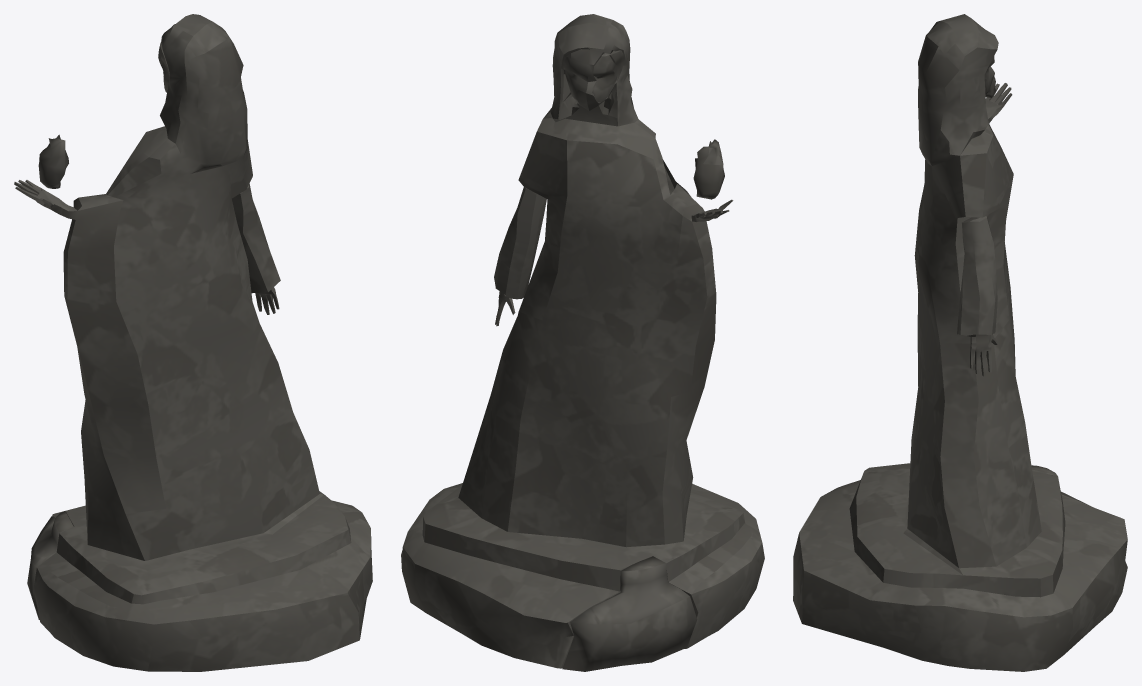
File: new_statue_model.glb
3 views of the same model, side by side, from view 1: azimuth 30°, elevation 25°; view 2: azimuth 150°, elevation 25°; view 3: azimuth 270°, elevation 25° (orthographic). The views are drawn at different scales.
Visible parts, largest first — view 1: statue, armpiece, basepiece, flame; view 2: statue, basepiece, armpiece, flame, headpiece; view 3: statue, armpiece.
Boxes of the visible parts, bbox=[...] form: statue: bbox=[14, 14, 372, 671]; armpiece: bbox=[232, 183, 280, 314]; basepiece: bbox=[27, 511, 73, 619]; flame: bbox=[38, 134, 68, 188]; statue: bbox=[401, 14, 764, 668]; basepiece: bbox=[562, 556, 697, 671]; armpiece: bbox=[494, 187, 546, 326]; flame: bbox=[693, 139, 724, 199]; headpiece: bbox=[592, 50, 625, 102]; statue: bbox=[793, 14, 1127, 671]; armpiece: bbox=[957, 215, 997, 376].
Size of the model in its own units: 2.93 by 5.15 by 2.66.
Materials: 1 (1 with a texture image).
